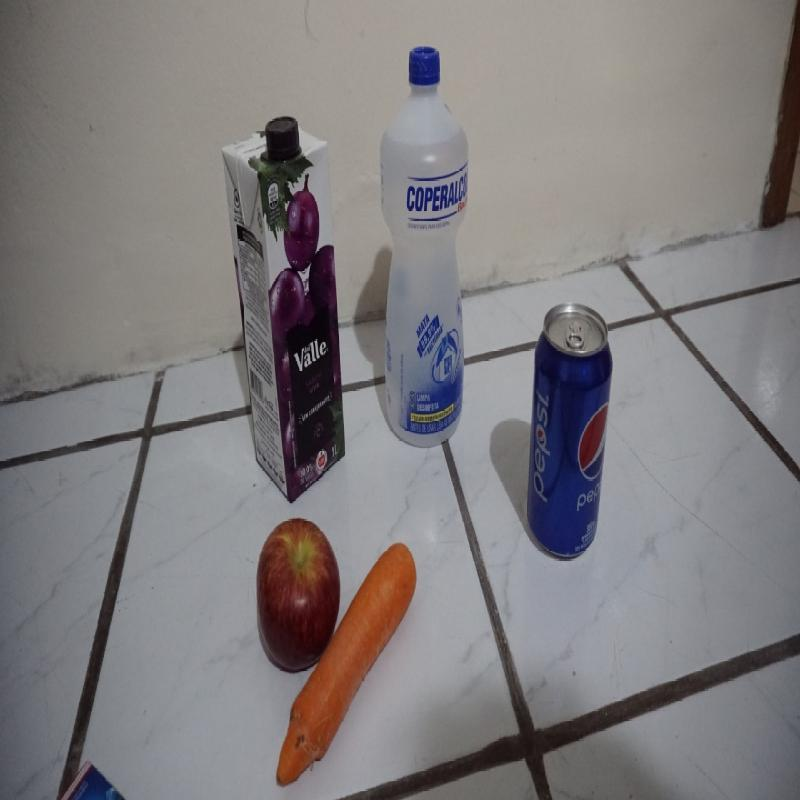Alcohol Bottle: (380, 45, 469, 455)
Apple: (256, 519, 341, 671)
Carrot: (341, 541, 417, 723)
Gelatine: (53, 759, 128, 798)
Soda can: (527, 301, 614, 562)
